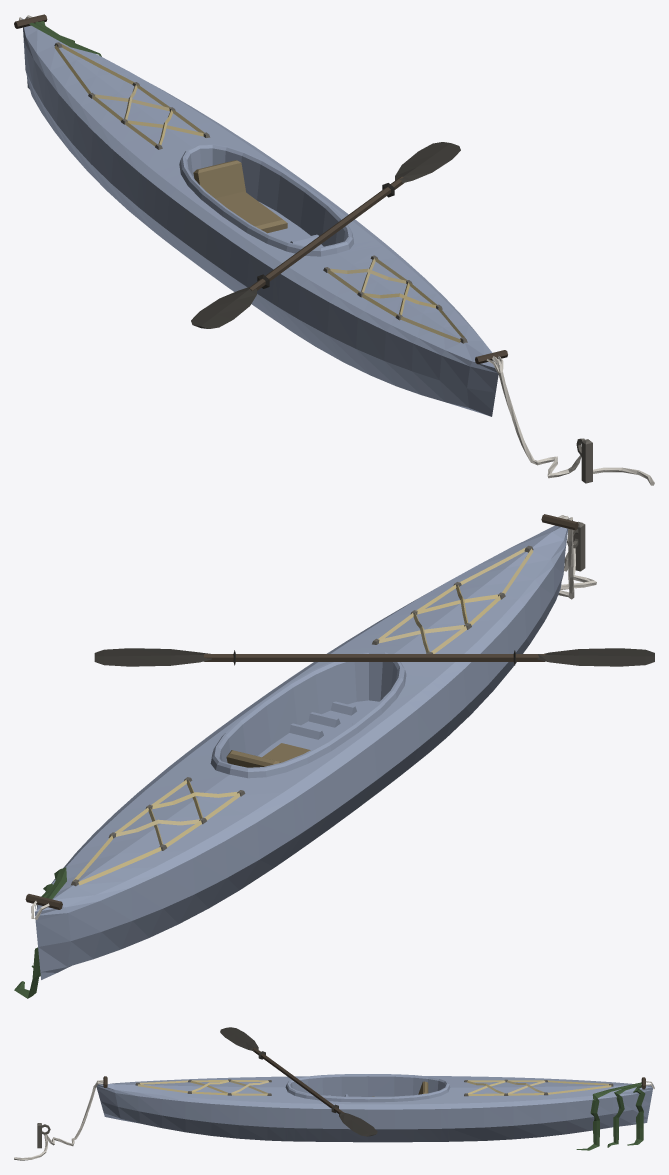
File: sea-kayak-97b592.glb
3 views of the same model, one above another, from view 1: azimuth 30°, elevation 25°; view 2: azimuth 150°, elevation 25°; view 3: azimuth 270°, elevation 25° (orthographic). The views are drawn at different scales.
Parts seen in each view (by area): view 1: kayak-body, paddle-mesh, seat-mesh; view 2: kayak-body, paddle-mesh, seat-mesh; view 3: kayak-body, paddle-mesh.
Part boxes in pixels (<box>): kayak-body: <box>14,14,654,485</box>; paddle-mesh: <box>191,142,460,328</box>; seat-mesh: <box>193,160,287,233</box>; kayak-body: <box>14,514,596,998</box>; paddle-mesh: <box>94,648,654,666</box>; seat-mesh: <box>226,743,310,767</box>; kayak-body: <box>14,1074,654,1160</box>; paddle-mesh: <box>220,1027,377,1136</box>.
Bounding box in the file's own units: 1.95 × 0.4846 × 4.82.
